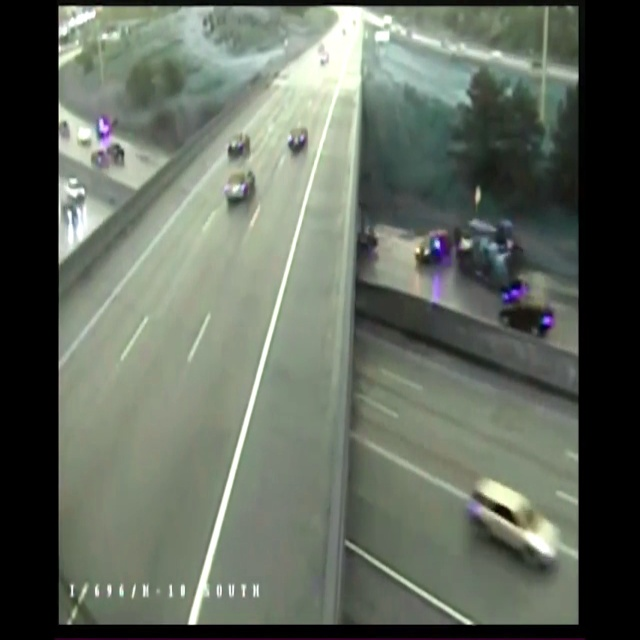acc: (408, 209, 534, 287)
